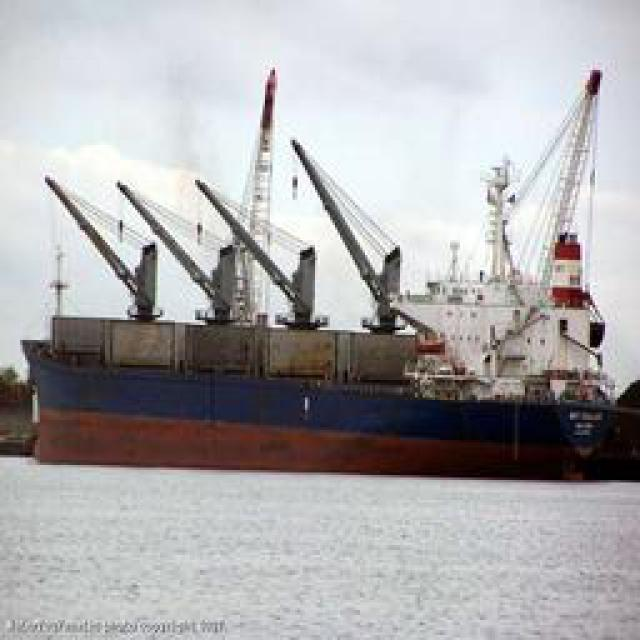Ship: (49, 66, 624, 471)
